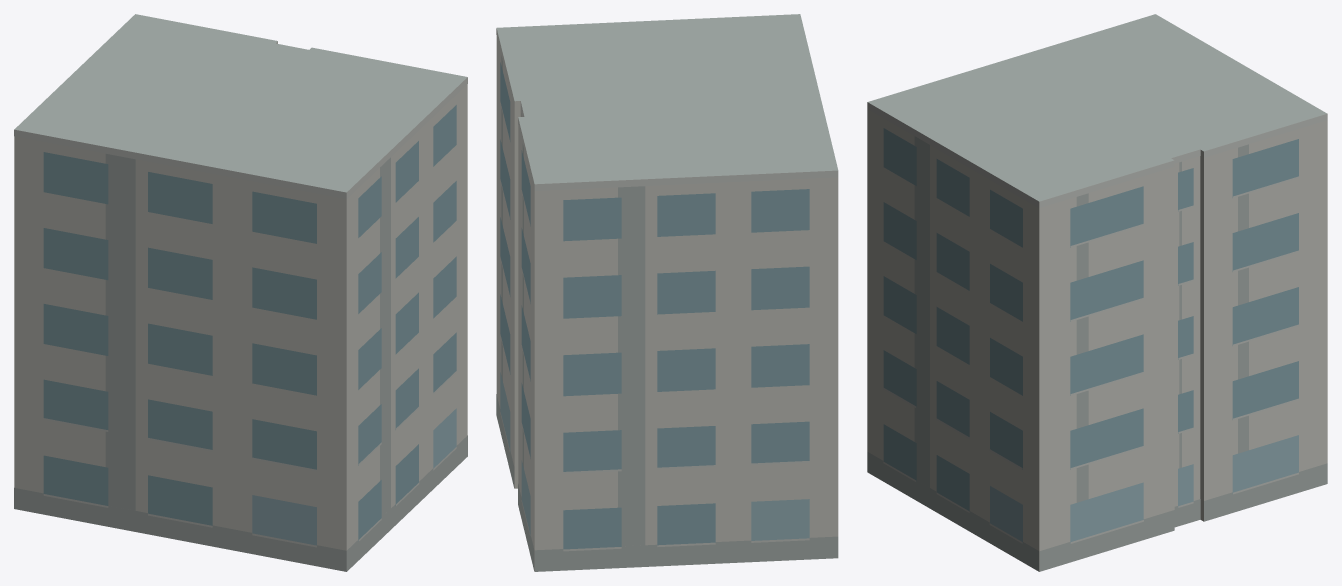
The model's file is survey-upis-32958165.glb.
The picture shows the model from 3 angles, left to right: view 1: azimuth 30°, elevation 25°; view 2: azimuth 150°, elevation 25°; view 3: azimuth 270°, elevation 25°; orthographic projection. The views are drawn at different scales.
Visible parts, largest first — view 1: survey-upis-32958165.tmp; view 2: survey-upis-32958165.tmp; view 3: survey-upis-32958165.tmp.
Boxes of the visible parts, x1,y1,x2,y2 form: survey-upis-32958165.tmp: (14,14,467,571); survey-upis-32958165.tmp: (496,14,838,571); survey-upis-32958165.tmp: (867,14,1327,571).
Bounding box in the file's own units: 14.85 × 13.65 × 15.38.
